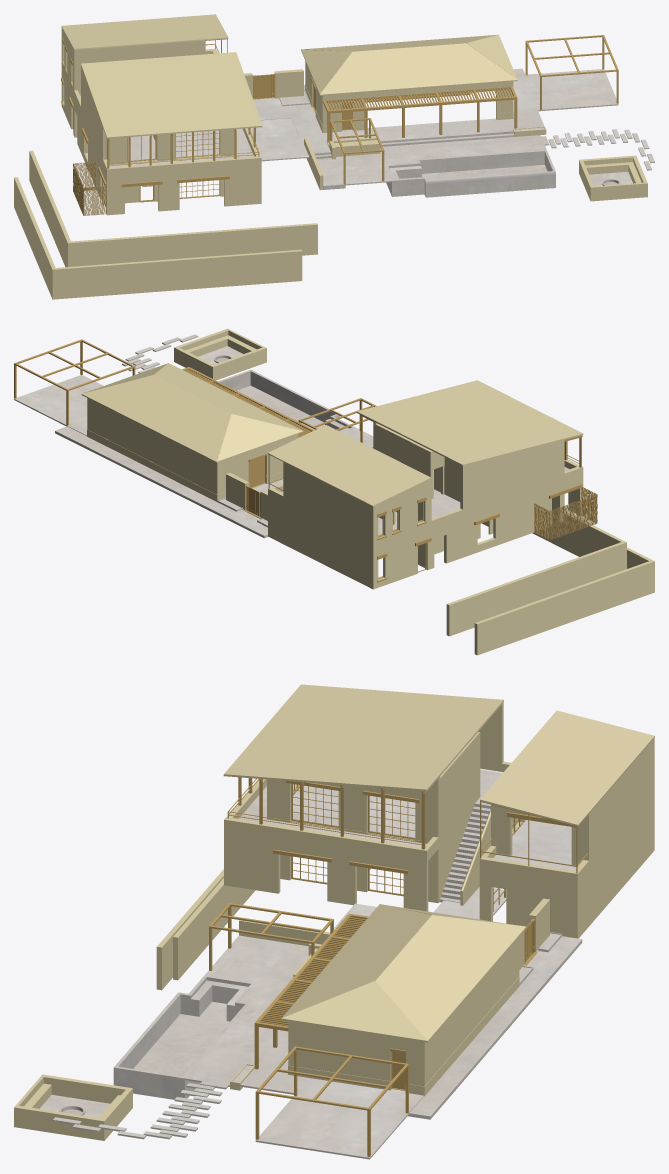
Rendered from Casona03.glb.
3 views of the same model, one above another, from view 1: azimuth 30°, elevation 25°; view 2: azimuth 150°, elevation 25°; view 3: azimuth 270°, elevation 25° (orthographic). The views are drawn at different scales.
Parts seen in each view (by area): view 1: C03W_Wall, C03W_Roof, C03W_Floor02, C03W_Floor, C03W_Wood, C03W_Frames, C03W_Wall02; view 2: C03W_Wall, C03W_Roof, C03W_Floor02, C03W_Wood, C03W_Floor, C03W_Wall02; view 3: C03W_Wall, C03W_Roof, C03W_Floor02, C03W_Floor, C03W_Wood, C03W_Frames, C03W_Wall02.
Boxes of the visible parts, <box> form: C03W_Wall: <box>14,28,647,299</box>; C03W_Roof: <box>61,14,517,138</box>; C03W_Floor02: <box>250,68,654,189</box>; C03W_Floor: <box>80,95,555,197</box>; C03W_Wood: <box>73,35,618,215</box>; C03W_Frames: <box>73,38,227,202</box>; C03W_Wall02: <box>61,38,315,187</box>; C03W_Wall: <box>87,328,654,655</box>; C03W_Roof: <box>81,363,583,506</box>; C03W_Floor02: <box>14,334,373,538</box>; C03W_Wood: <box>14,339,597,539</box>; C03W_Floor: <box>218,369,569,534</box>; C03W_Wall02: <box>248,453,582,582</box>; C03W_Wall: <box>14,703,654,1140</box>; C03W_Roof: <box>223,684,654,1042</box>; C03W_Floor02: <box>40,887,582,1159</box>; C03W_Floor: <box>113,768,576,1099</box>; C03W_Wood: <box>209,777,536,1156</box>; C03W_Frames: <box>291,783,588,911</box>; C03W_Wall02: <box>273,781,576,1053</box>.
Bounding box in the file's own units: 53.15 × 13.36 × 35.35.
3 materials, 1 textured.
